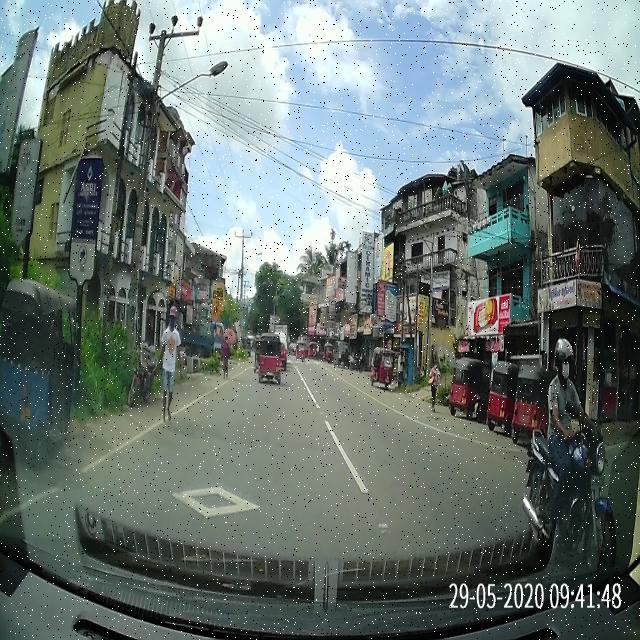diamond: (39, 447, 410, 545)
